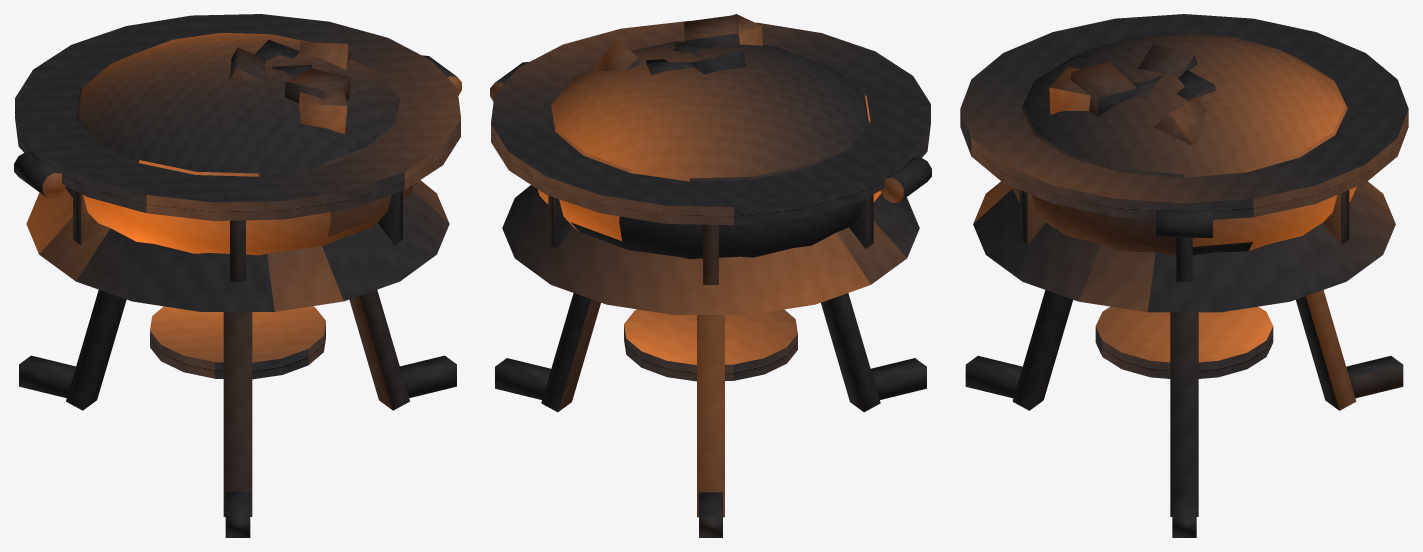
Rendered from Brazier_IronEmbers.glb.
3 renders of one model, left to right at view 1: azimuth 30°, elevation 25°; view 2: azimuth 150°, elevation 25°; view 3: azimuth 270°, elevation 25°, orthographic.
Visible parts, largest first — view 1: Brazier_IronEmbers_LOD0; view 2: Brazier_IronEmbers_LOD0; view 3: Brazier_IronEmbers_LOD0.
Boxes of the visible parts, bbox=[...] form: Brazier_IronEmbers_LOD0: bbox=[14, 14, 461, 537]; Brazier_IronEmbers_LOD0: bbox=[490, 14, 931, 537]; Brazier_IronEmbers_LOD0: bbox=[960, 14, 1408, 537].
Bounding box in the file's own units: 1.2 × 1.06 × 1.1.
Materials: 1 (1 with a texture image).
